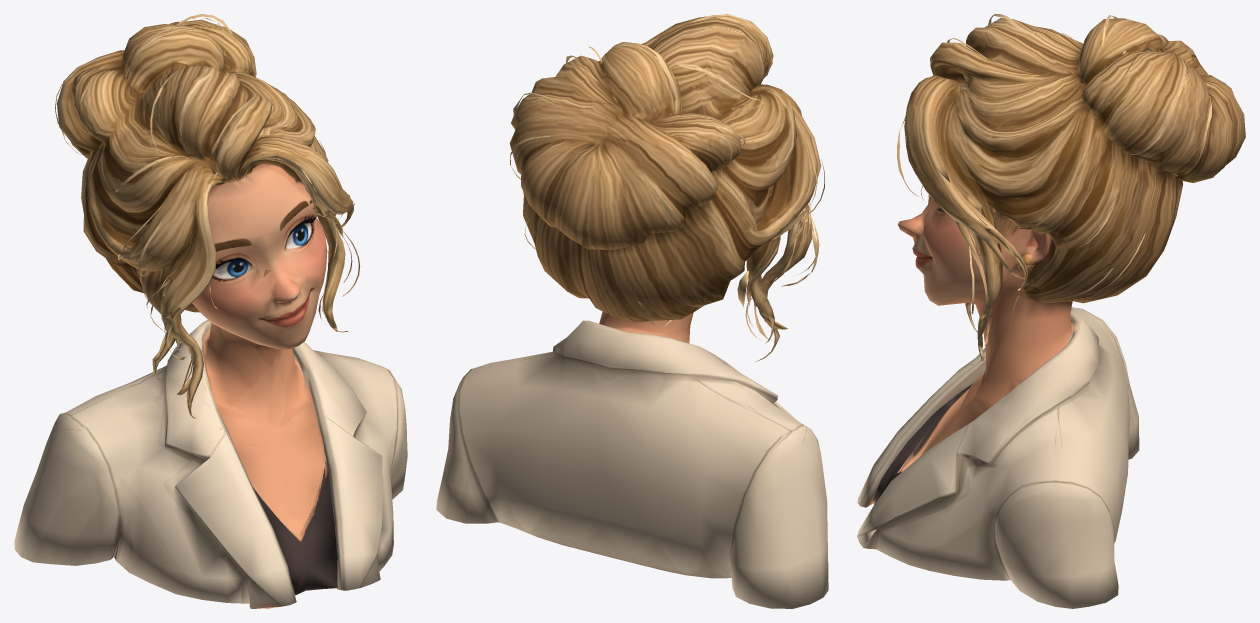
The model's file is social-chair.glb.
3 views of the same model, side by side, from view 1: azimuth 30°, elevation 25°; view 2: azimuth 150°, elevation 25°; view 3: azimuth 270°, elevation 25° (orthographic). The views are drawn at different scales.
Size of the model in its own units: 0.7598 by 0.9531 by 0.688.
Materials: 1 (1 with a texture image).
